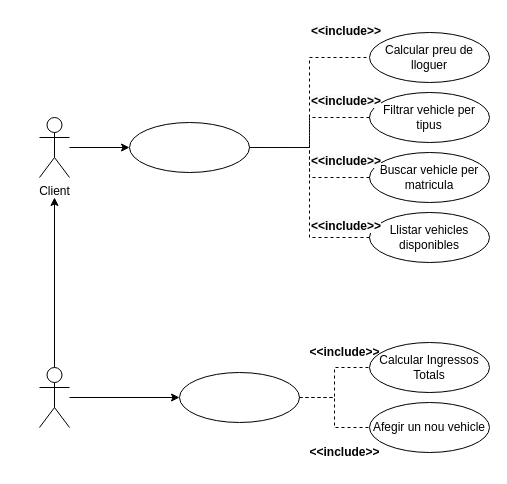
Some shapes in this 507 by 484 pixel diagram are drawn without their labels. The shapes that lost their labels are listed below. From the top down, each one's centre as x and y in pixels, then its label:
the point at 189,147: Iniciar como Cliente
the point at 54,397: Administrador
the point at 239,397: Iniciar como administrador
